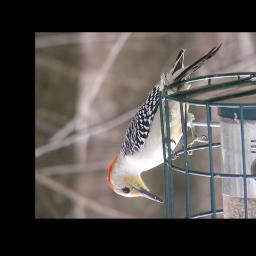Woodpecker: (104, 42, 223, 206)
